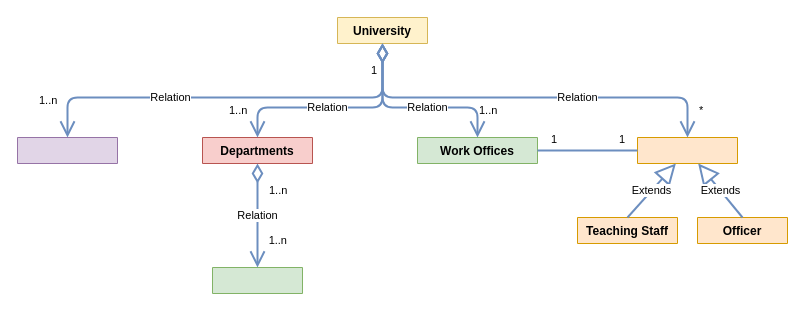
Image size: 805x311. Some labels were removed from this diagram. Here are the shapes that lost their labels. From the top down, the centre of each, then its label:
At (x=67, y=150): "Classrooms".
At (x=687, y=150): "Employees".
At (x=257, y=280): "Offices".
